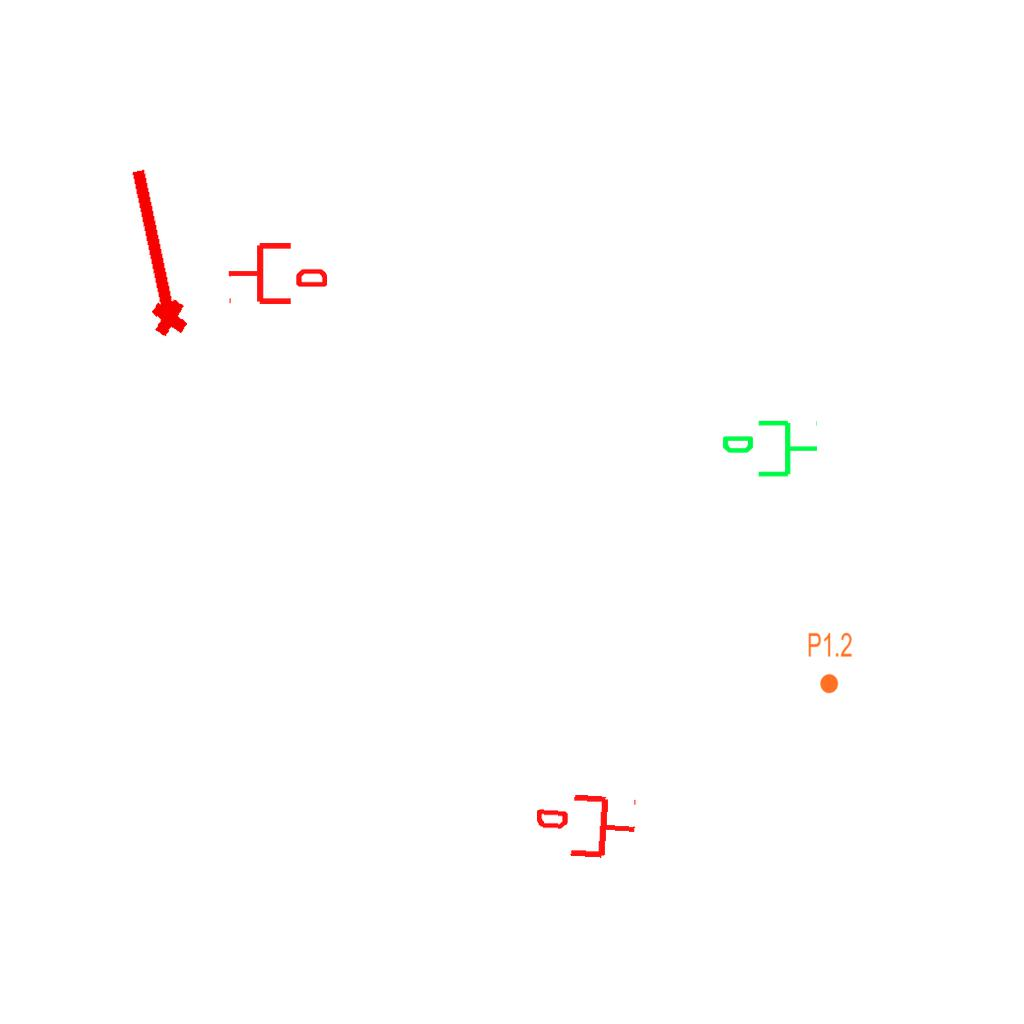ASR_Ansaugoeffnung: (112, 161, 194, 343)
Datenanschluss_einfach: (534, 788, 639, 864), (227, 239, 327, 308), (720, 416, 820, 485)
Downlight_LED_Einbauleuchten_Flur: (807, 631, 853, 695)
